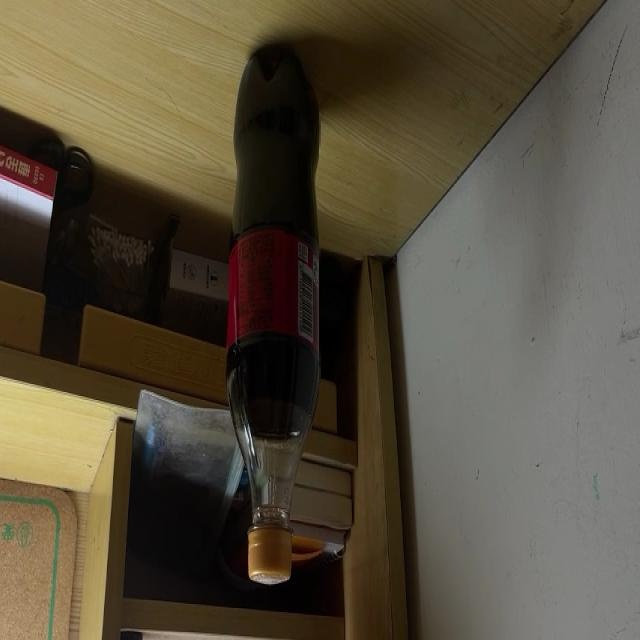Coca-Cola: (227, 52, 321, 584)
